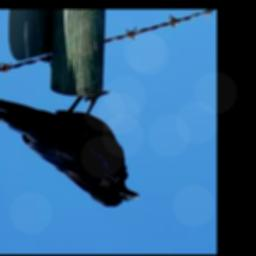Crow: (0, 89, 142, 209)
